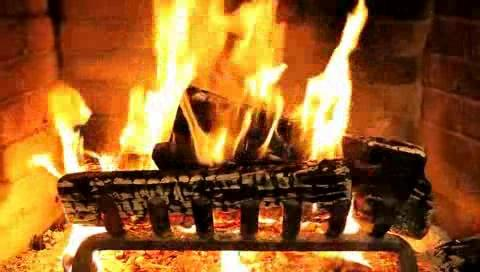fire: (99, 0, 383, 175)
